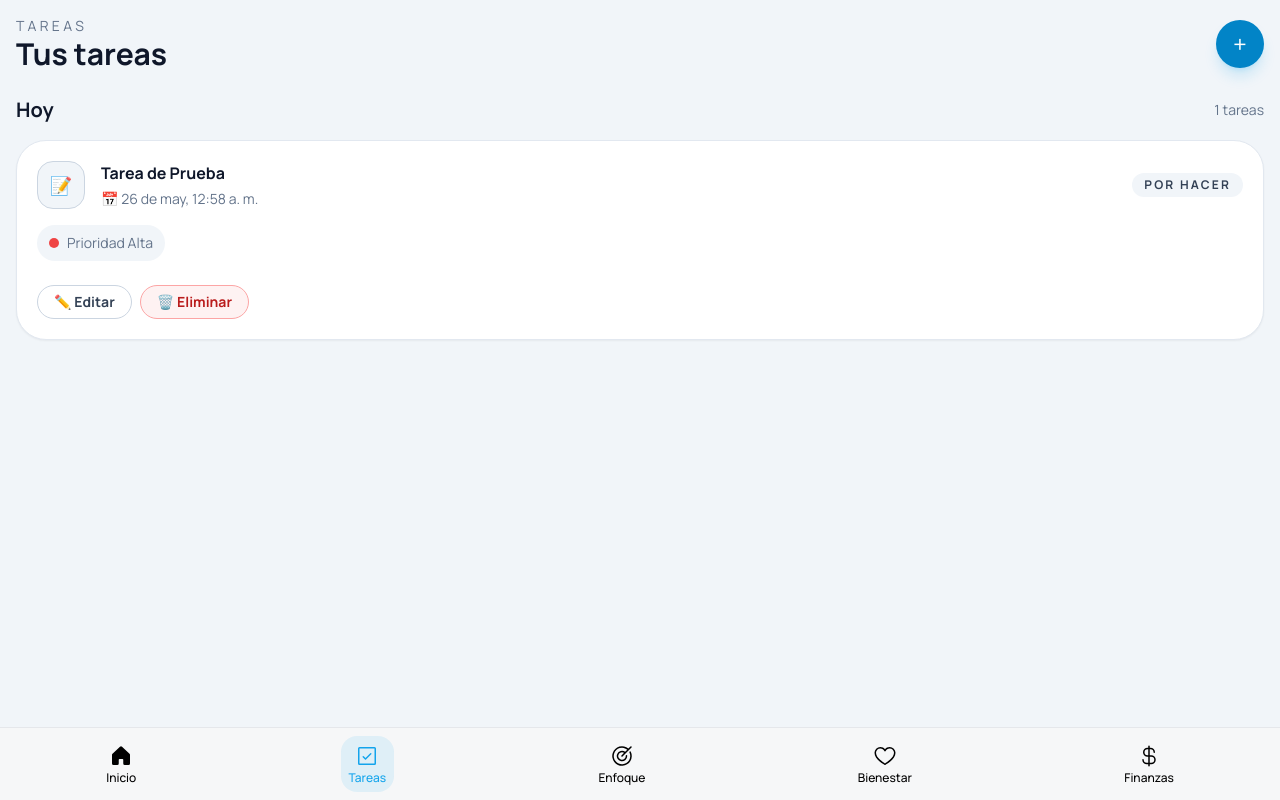
TasksView.vue › abre el modal de confirmación y elimina la tarea
The width and height of the screenshot is (1280, 800).
Click the button "🗑️ Eliminar": (194, 302) x1=140 y1=285 x2=249 y2=319
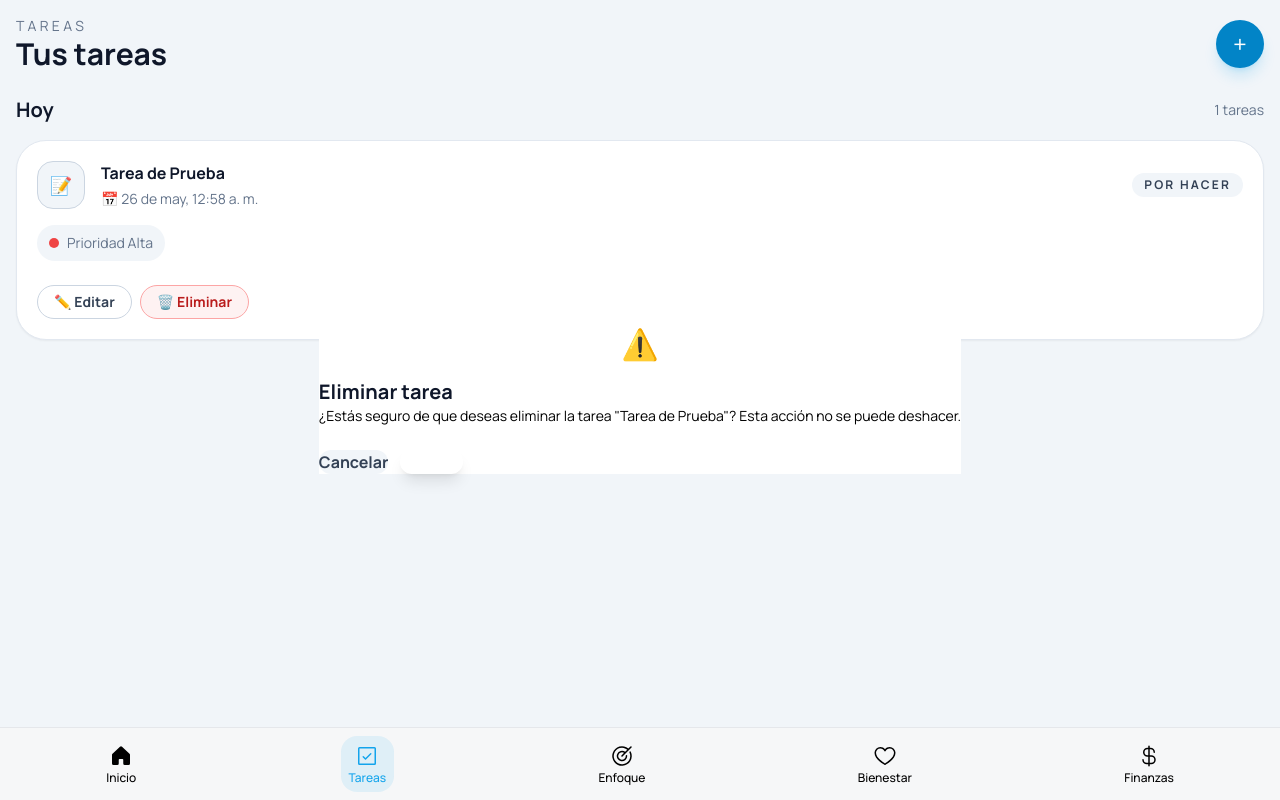
Expected: the text "Tarea de Prueba" is shown, x1=101 y1=162 x2=225 y2=184
Now the text "Esta acción no se puede deshacer" is shown, box x1=319 y1=406 x2=961 y2=425
Click the button "Eliminar": (432, 462) x1=400 y1=450 x2=463 y2=474
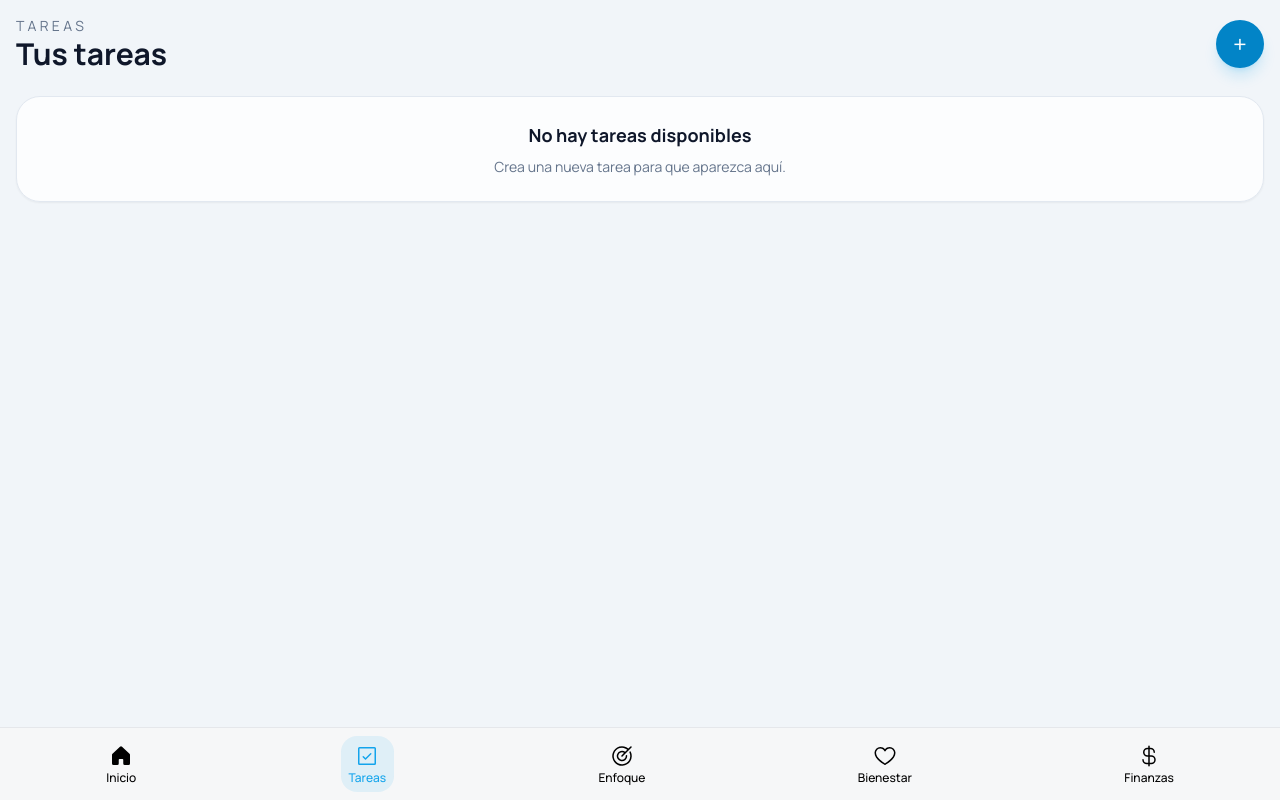
Now the text "Tarea de Prueba" is gone
